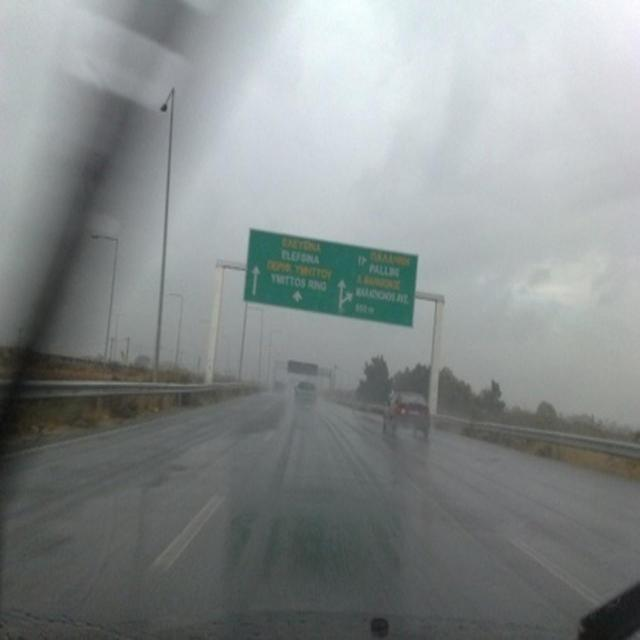Car: (382, 391, 430, 438), (292, 380, 318, 409)
